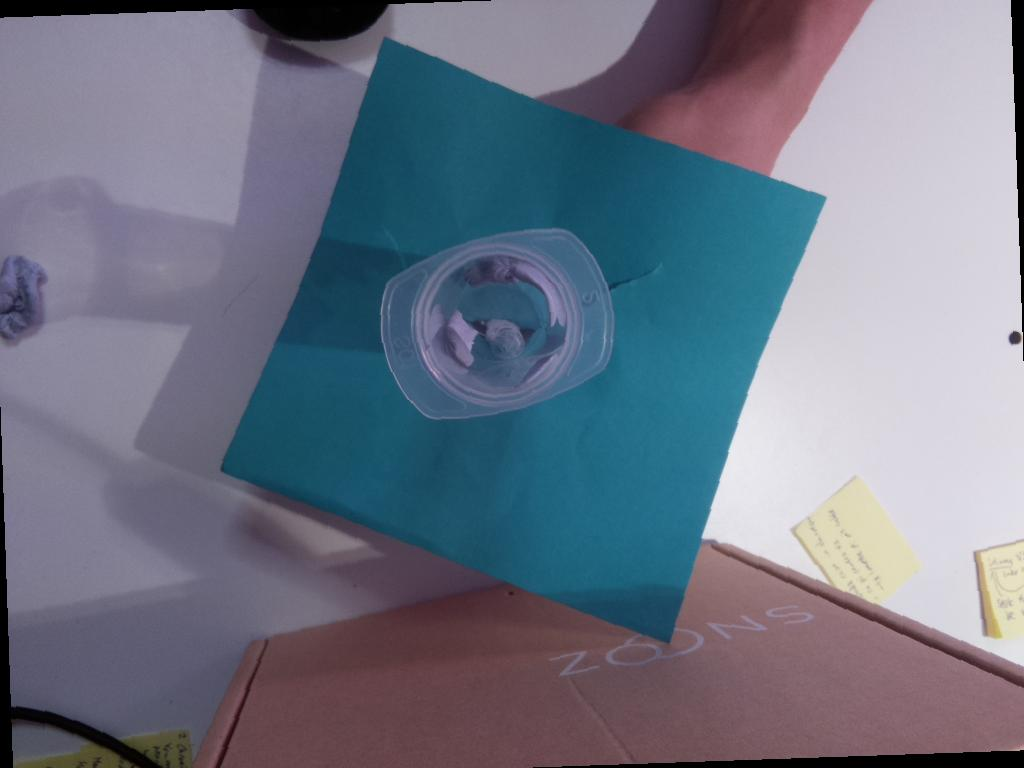dirty: (382, 226, 614, 421)
